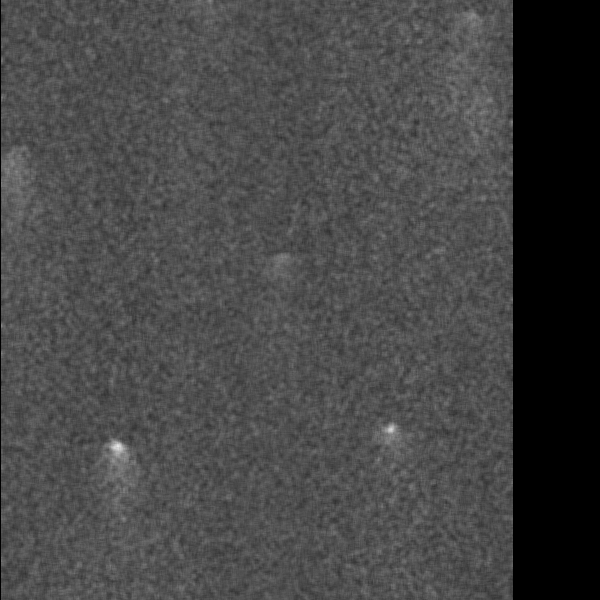spark: (103, 435, 131, 492), (1, 139, 21, 209), (451, 3, 483, 45), (271, 250, 293, 293), (381, 419, 398, 449)
